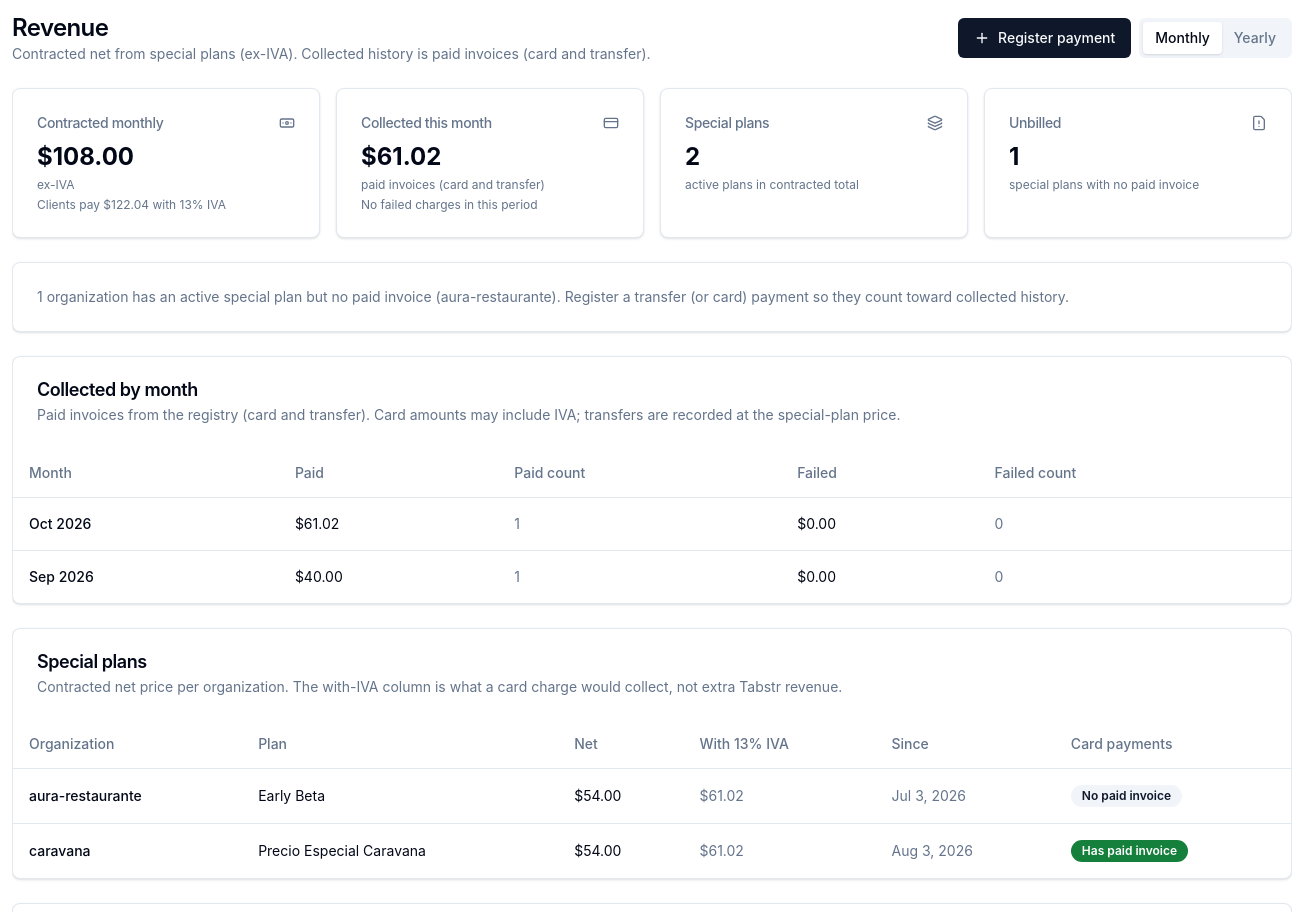
it: RevenuePage › renders contracted net and collected totals, and scales yearly as × 12
Expected: the text "Contracted monthly" is shown, [37, 113, 163, 133]
Expected: the text "$108.00" is shown, [37, 142, 134, 171]
Click the tab "Yearly".
click(1255, 38)  # box [1222, 22, 1288, 54]
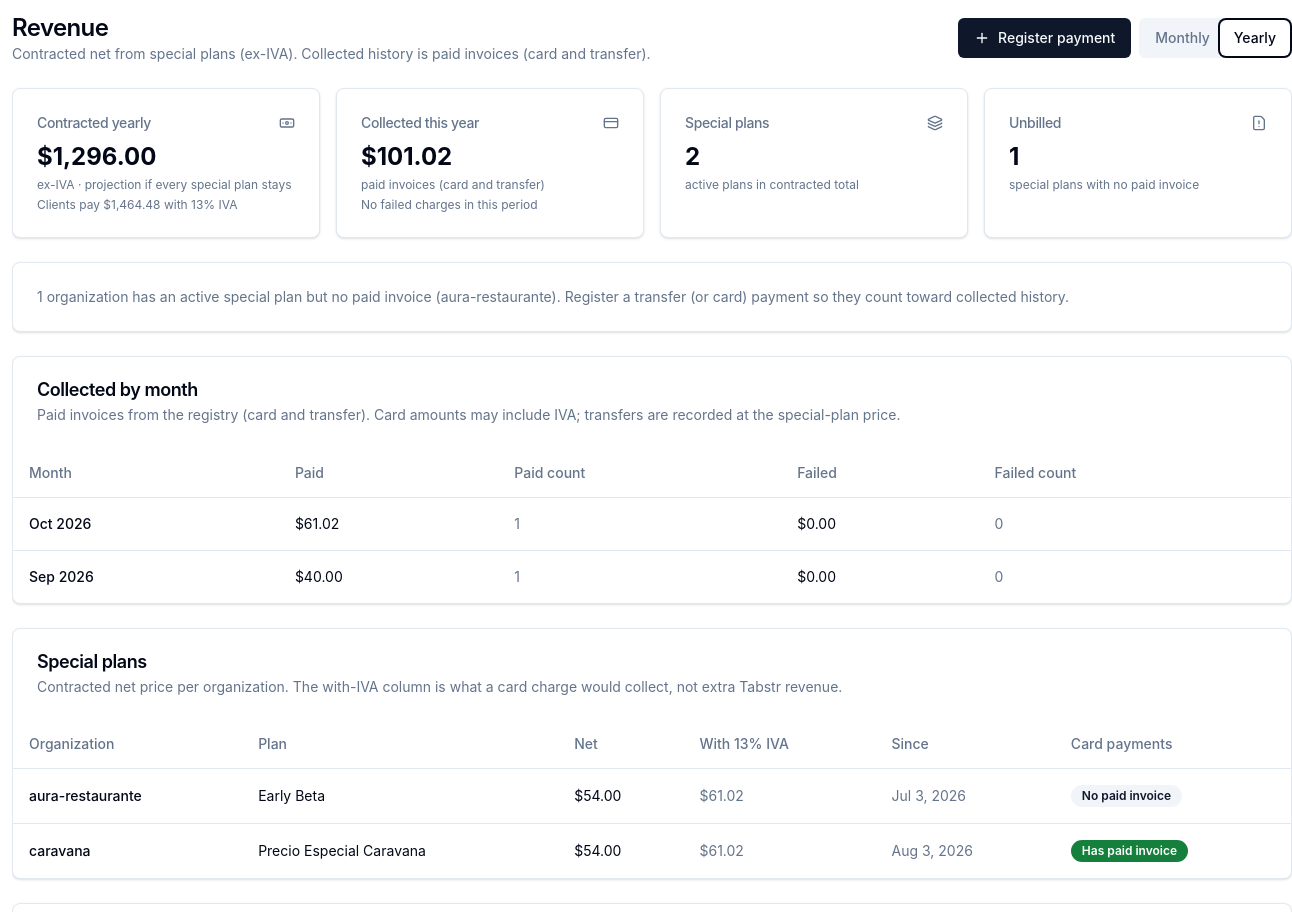
Expected: the text "Contracted yearly" is shown, [37, 113, 151, 133]
Expected: the text "$1,296.00" is shown, [37, 142, 156, 171]
Expected: the text "Collected this year" is shown, [361, 113, 479, 133]
